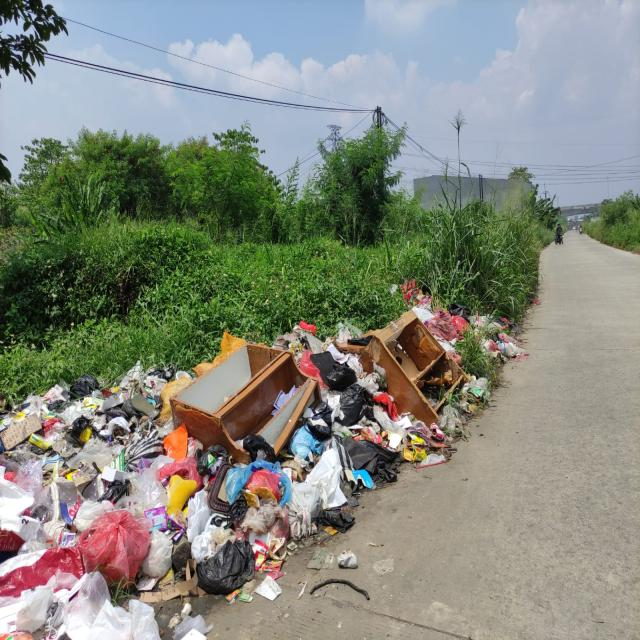garbage: (0, 329, 528, 627)
